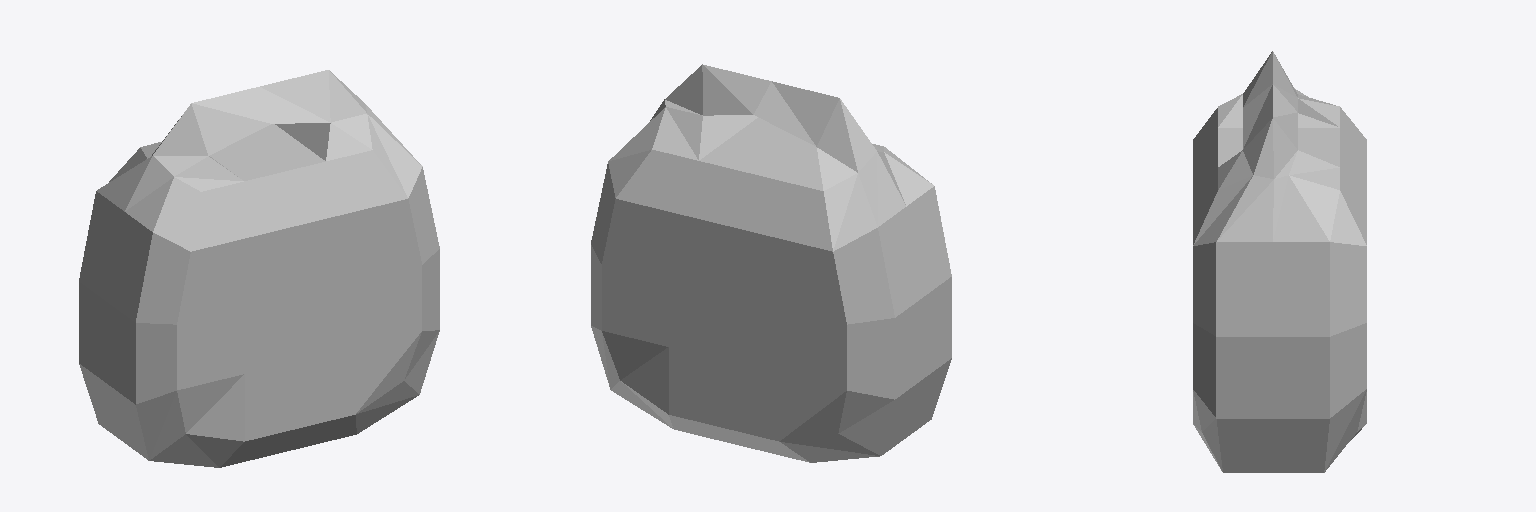
The model's file is bag.obj.
3 renders of one model, left to right at view 1: azimuth 30°, elevation 25°; view 2: azimuth 150°, elevation 25°; view 3: azimuth 270°, elevation 25°, orthographic.
Visible parts, largest first — view 1: Cube; view 2: Cube; view 3: Cube.
Boxes of the visible parts, <box> form: Cube: <box>79,70,439,467</box>; Cube: <box>591,64,951,462</box>; Cube: <box>1193,51,1366,472</box>.
Bounding box in the file's own units: 2 × 2.16 × 0.9932.